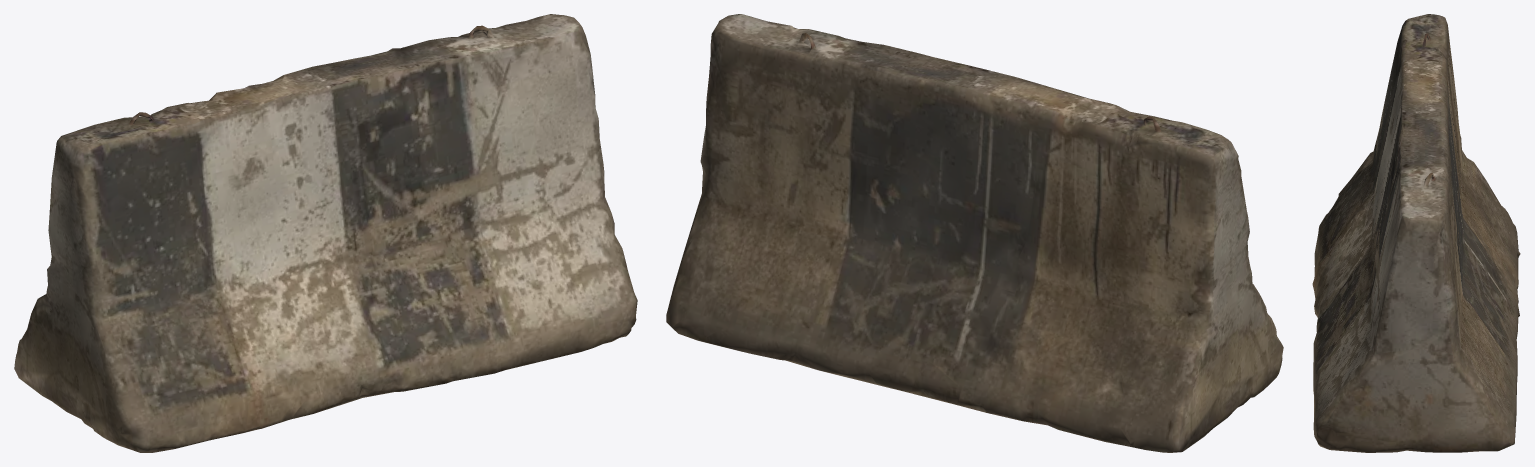
File: scene-barrier.glb
3 renders of one model, left to right at view 1: azimuth 30°, elevation 25°; view 2: azimuth 150°, elevation 25°; view 3: azimuth 270°, elevation 25°, orthographic. The views are drawn at different scales.
Visible parts, largest first — view 1: concrete_road_barrier; view 2: concrete_road_barrier; view 3: concrete_road_barrier.
Boxes of the visible parts, <box> form: concrete_road_barrier: <box>14,14,637,452</box>; concrete_road_barrier: <box>666,14,1283,452</box>; concrete_road_barrier: <box>1312,14,1520,452</box>.
Size of the model in its own units: 1.54 by 0.8304 by 0.6387.
1 material, 1 textured.
